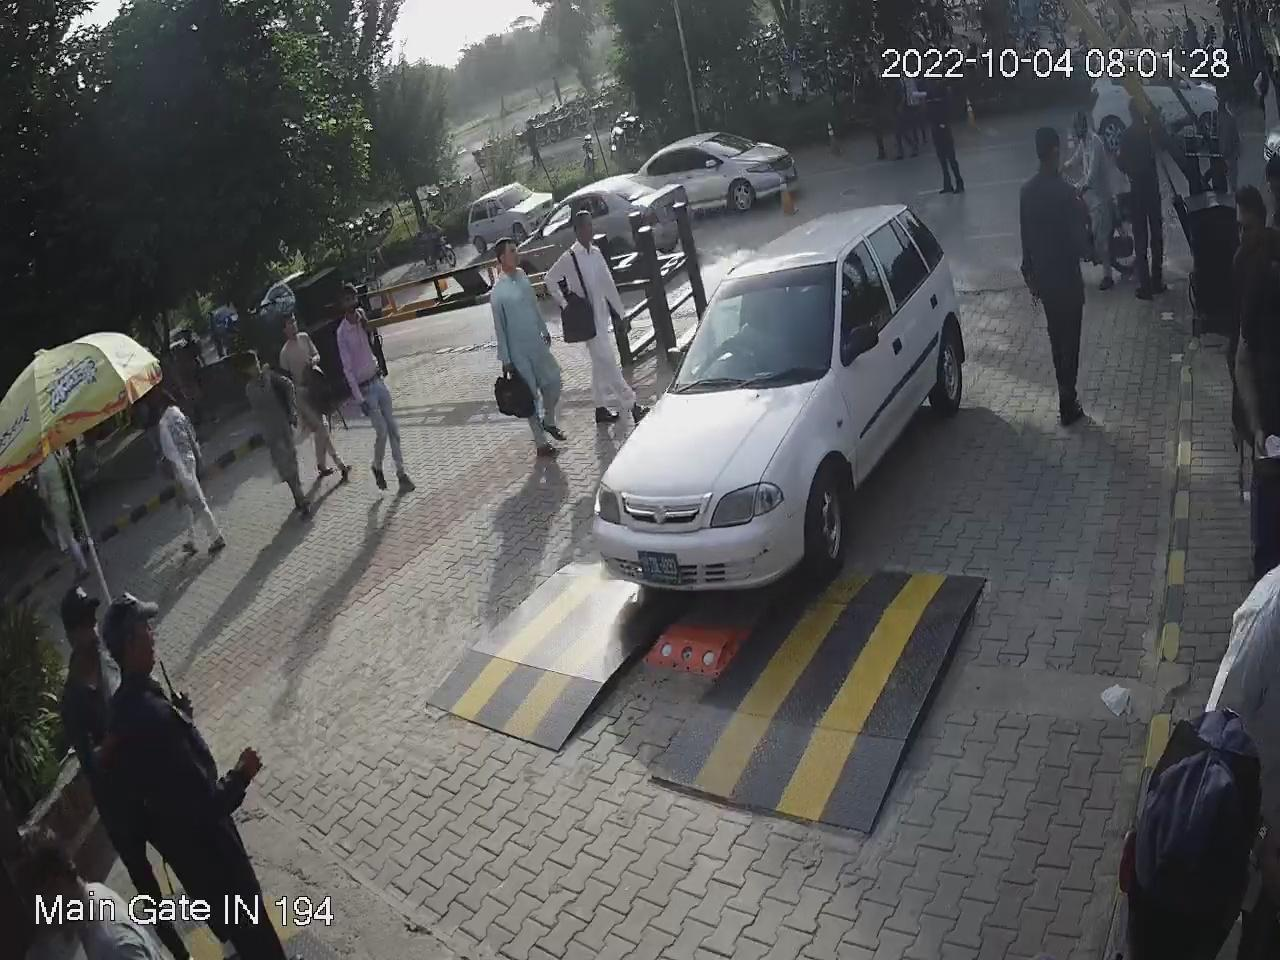windshield: (665, 252, 841, 397)
